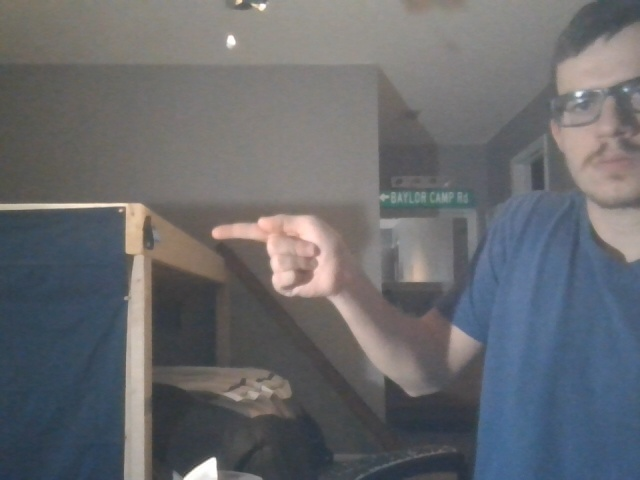G: (204, 210, 361, 315)
